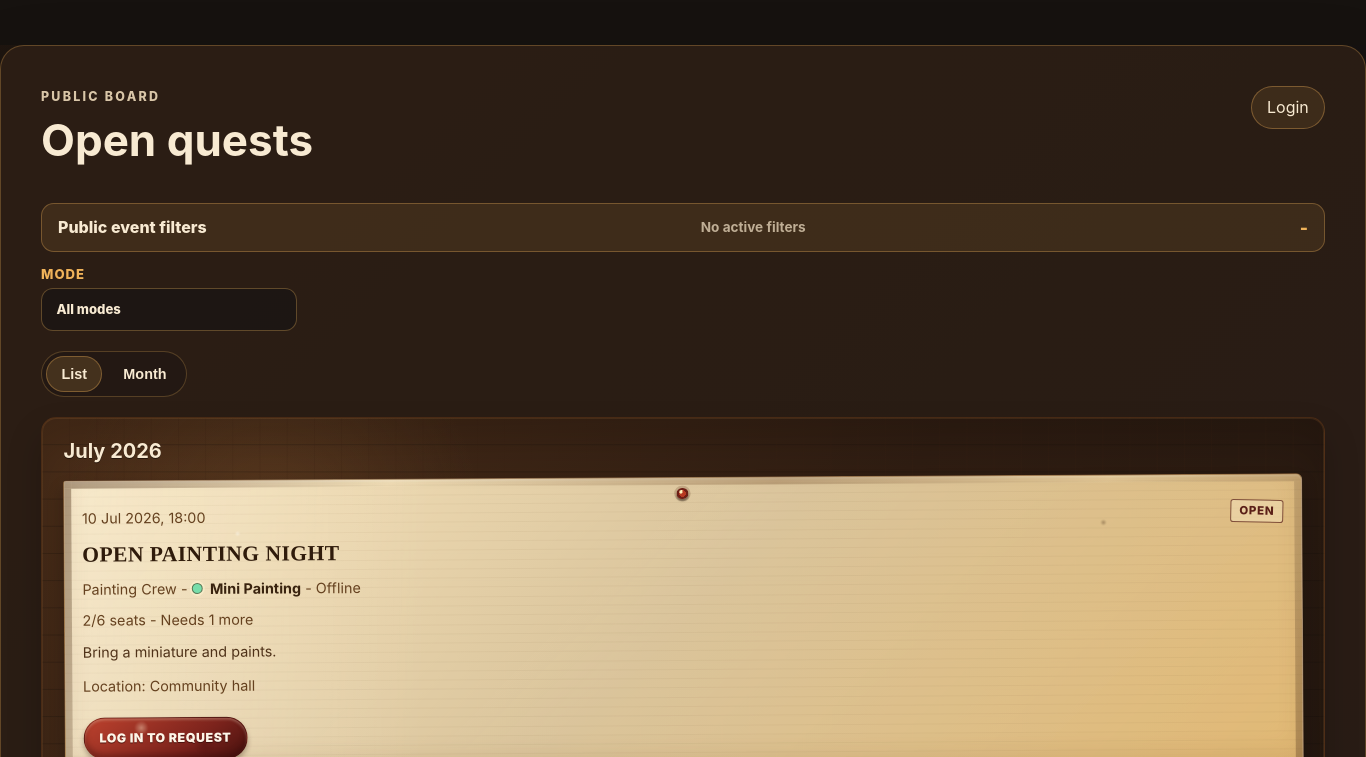
Test: PublicEventsPage › shows a navigable public month calendar with compact quest entries
(page scrolled)
Expected: the text "Open painting night" is shown, [82, 541, 339, 567]
What coordinates should you click on to do the following:
click the tab "Month"
I would click on:
 (145, 374)
Its box is [108, 356, 182, 392].
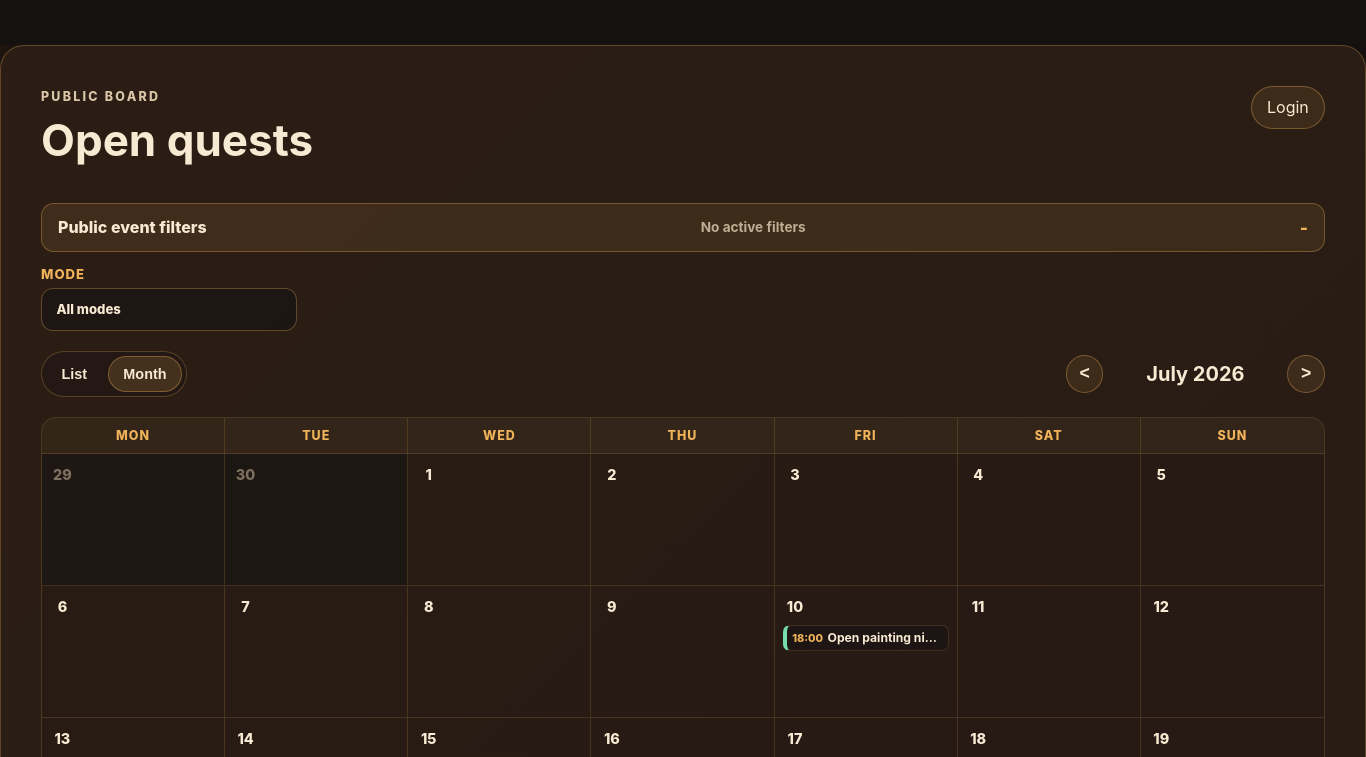
Expected: the column heading "Mon" is shown, [42, 418, 225, 454]
Expected: the element "18:00 Open painting night" is shown, [783, 625, 949, 651]
What coordinates should you click on to do the following:
click the button named "Next month"
I would click on:
 (1306, 374)
Its box is [1287, 355, 1325, 392].
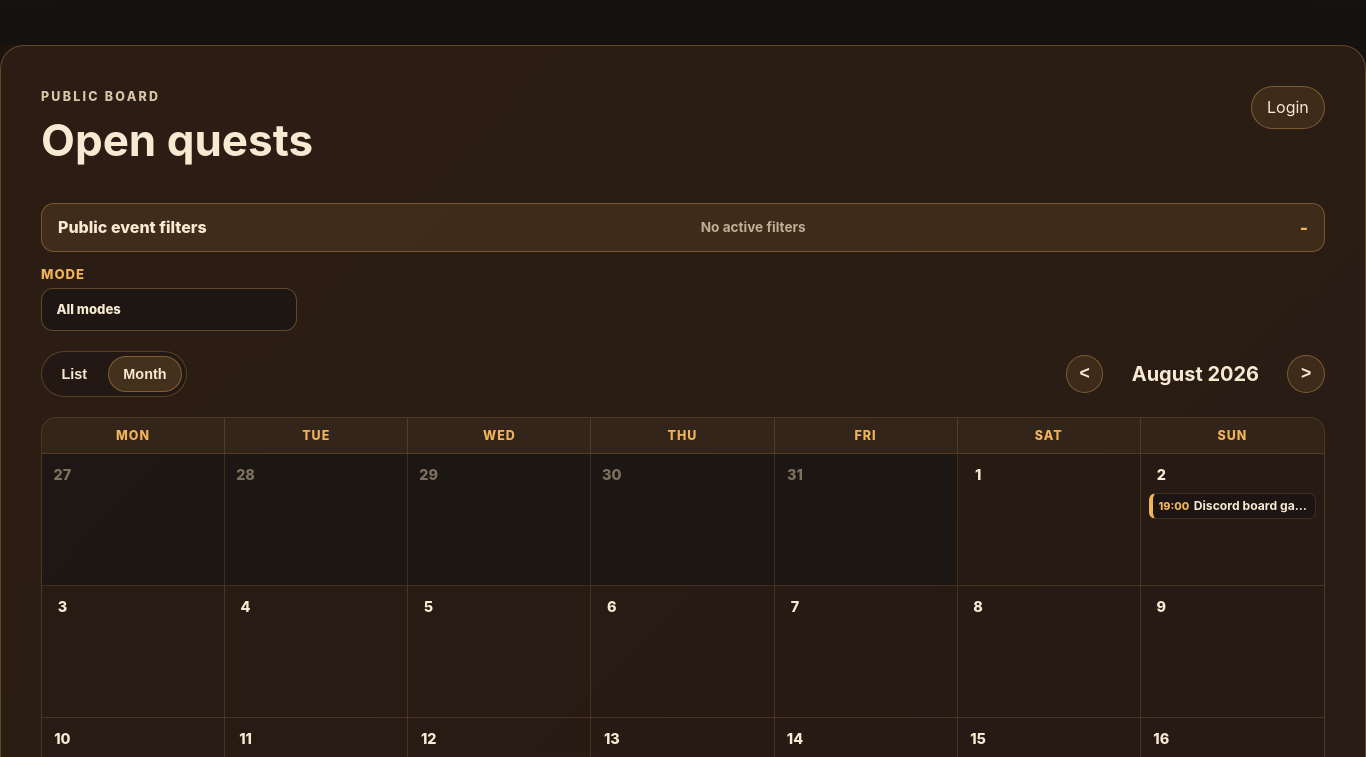
Expected: the element "19:00 Discord board games" is shown, [1149, 493, 1316, 519]
What coordinates should you click on to do the following:
click the button named "Previous month"
I would click on:
 (1085, 374)
Its box is [1066, 355, 1103, 392].
(page scrolled)
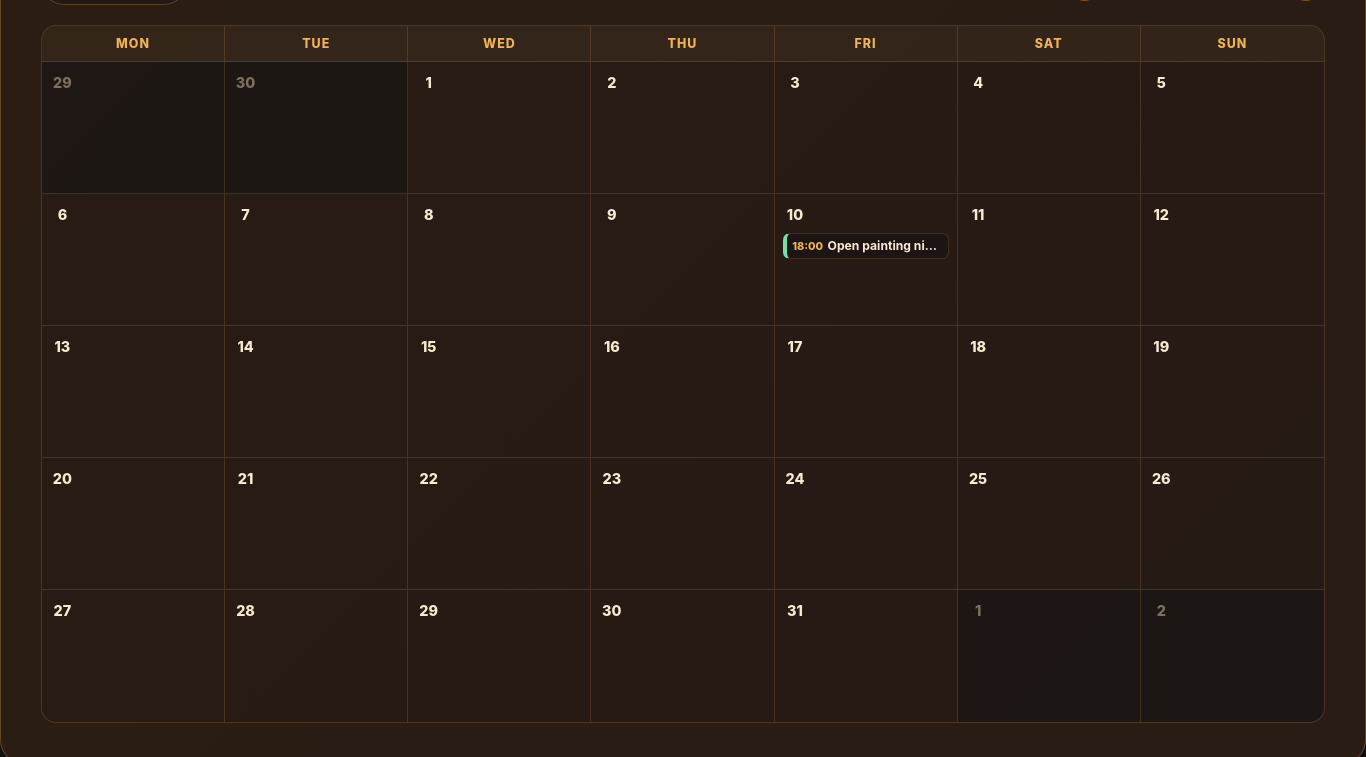
Expected: the table named "July 2026" is shown
